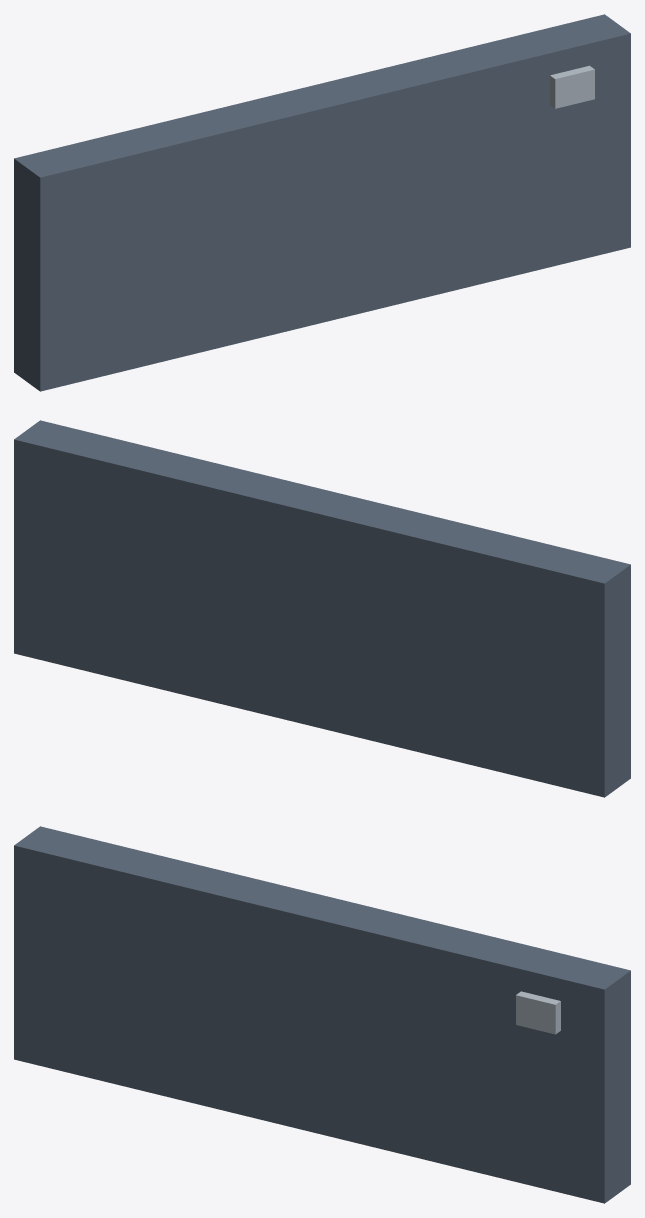
File: keyboard.glb
3 views of the same model, one above another, from view 1: azimuth 30°, elevation 25°; view 2: azimuth 150°, elevation 25°; view 3: azimuth 330°, elevation 25° (orthographic).
Parts seen in each view (by area): view 1: body, key; view 2: body; view 3: body, key.
Boxes of the visible parts, box(x1,y1,x2,y2) form: body: box(14, 14, 630, 391); key: box(550, 65, 594, 108); body: box(14, 420, 630, 797); body: box(14, 826, 630, 1203); key: box(516, 991, 560, 1034).
Size of the model in its own units: 0.52 by 0.18 by 0.05.
